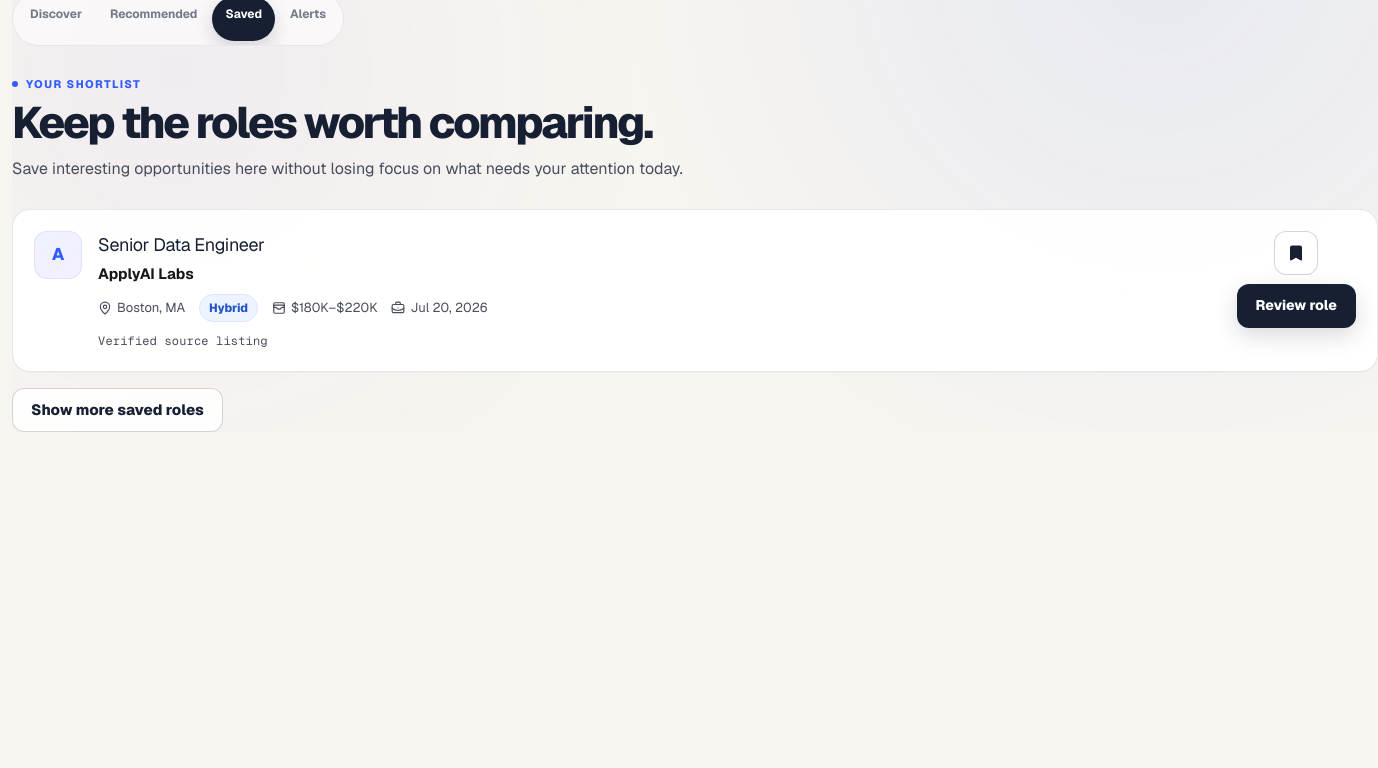
Test case: SavedJobsView › loads the next saved jobs page without replacing the first page
Expected: the link "Senior Data Engineer" is shown, [98,233,264,256]
Click the button "Show more saved roles". click: (117, 410)
box: [12,388,223,432]
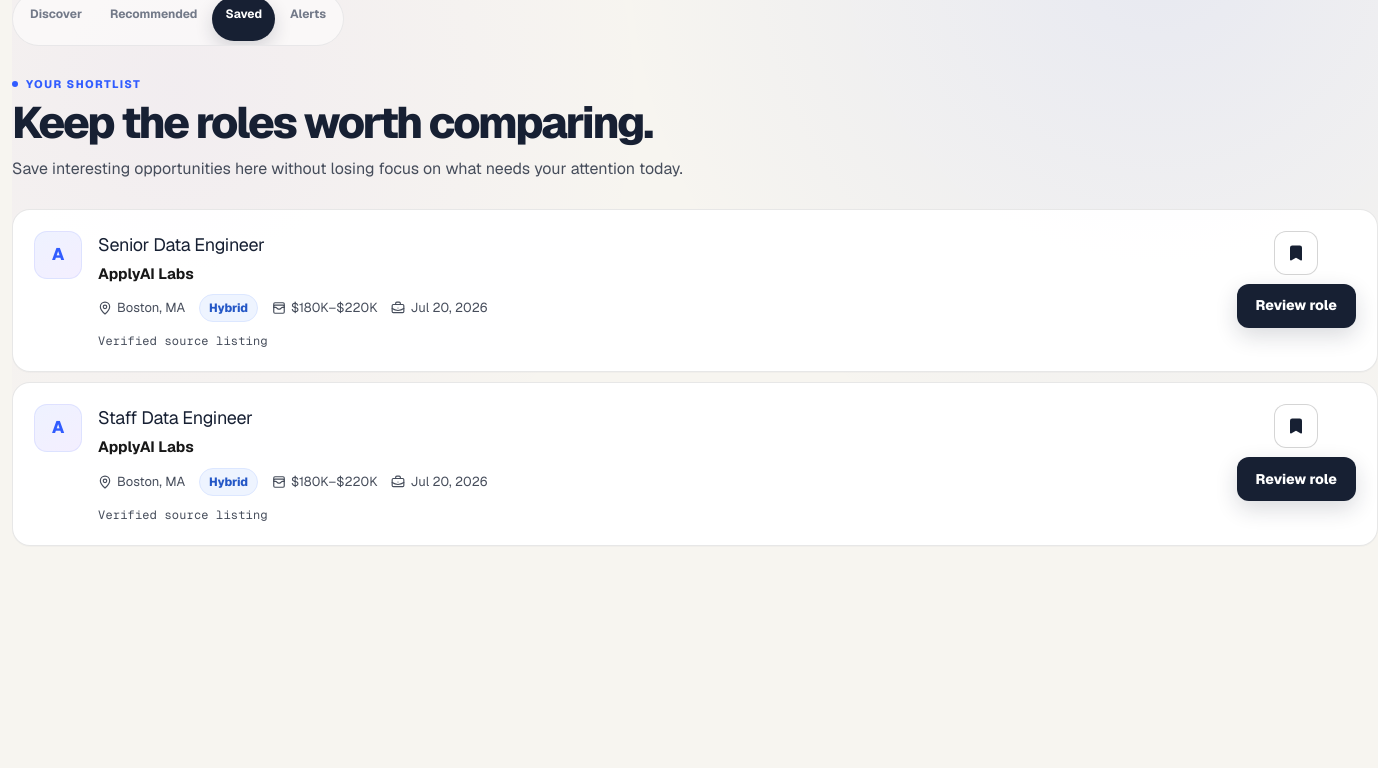
Expected: the link "Senior Data Engineer" is shown, [98,233,264,256]
Expected: the link "Staff Data Engineer" is shown, [98,406,252,429]
